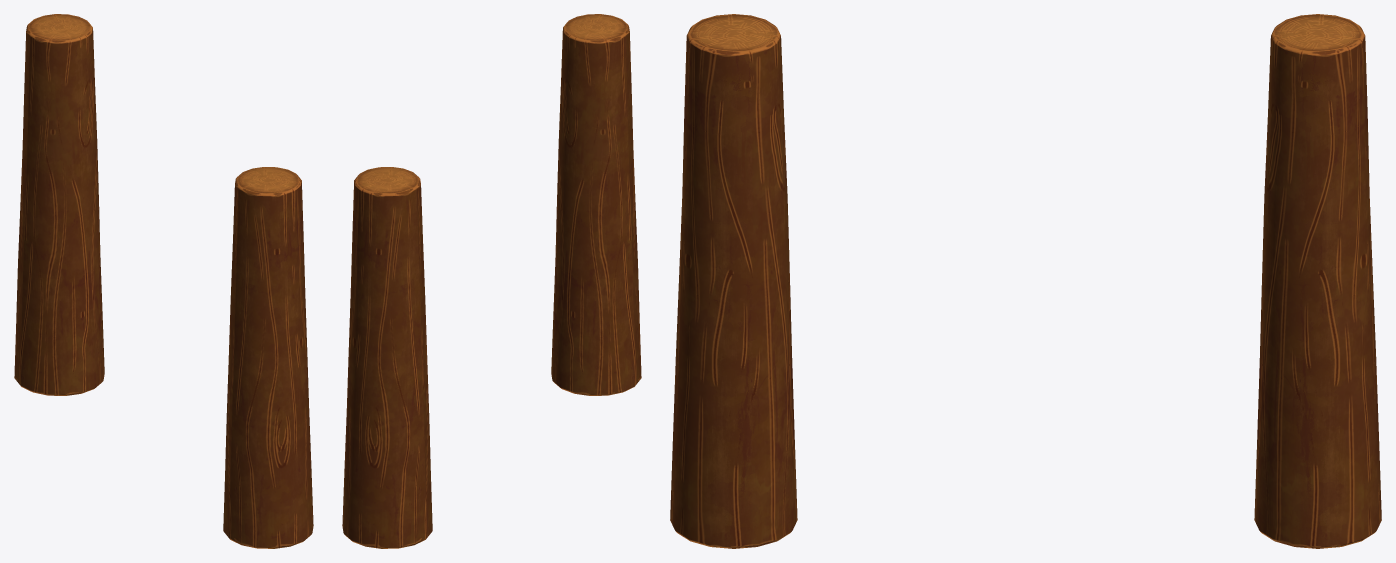
The model's file is Vigas_pier_A.fbx.
The picture shows the model from 3 angles, left to right: view 1: azimuth 30°, elevation 25°; view 2: azimuth 150°, elevation 25°; view 3: azimuth 270°, elevation 25°; orthographic projection. The views are drawn at different scales.
Parts seen in each view (by area): view 1: Tabua_G_B_LP.003; view 2: Tabua_G_B_LP.003; view 3: Tabua_G_B_LP.003.
Part boxes in pixels (bbox=[...]): Tabua_G_B_LP.003: bbox=[14, 14, 313, 548]; Tabua_G_B_LP.003: bbox=[342, 14, 641, 548]; Tabua_G_B_LP.003: bbox=[670, 14, 1381, 548].
Size of the model in its own units: 94.26 by 400 by 527.
